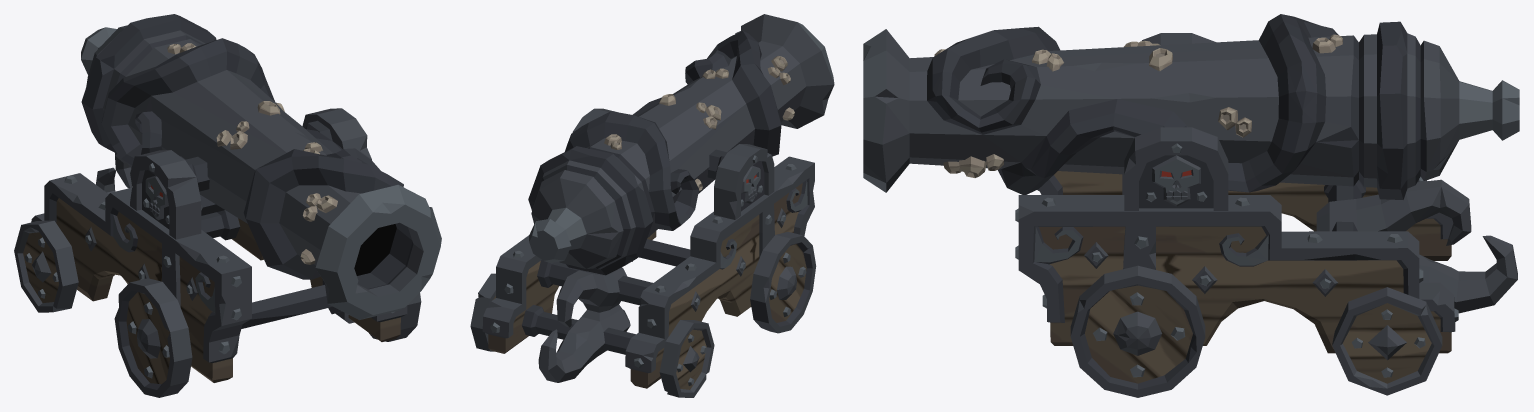
The model's file is SM_Wep_Cannon_03.fbx.
3 renders of one model, left to right at view 1: azimuth 30°, elevation 25°; view 2: azimuth 150°, elevation 25°; view 3: azimuth 270°, elevation 25°, orthographic. The views are drawn at different scales.
Visible parts, largest first — view 1: SM_Wep_Cannon_03_Cannon, SM_Wep_Cannon_03, SM_Wep_Cannon_03_Wheel_FR, SM_Wep_Cannon_03_Wheel_RR, SM_Wep_Cannon_03_Wedge, SM_Wep_Cannon_03_Wheel_FL; view 2: SM_Wep_Cannon_03_Cannon, SM_Wep_Cannon_03, SM_Wep_Cannon_03_Wedge, SM_Wep_Cannon_03_Wheel_FR, SM_Wep_Cannon_03_Wheel_RR, SM_Wep_Cannon_03_Wheel_RL; view 3: SM_Wep_Cannon_03_Cannon, SM_Wep_Cannon_03, SM_Wep_Cannon_03_Wheel_FL, SM_Wep_Cannon_03_Wedge, SM_Wep_Cannon_03_Wheel_RL.
Part boxes in pixels (x1=…): SM_Wep_Cannon_03_Cannon: x1=81, y1=14, x2=441, y2=320; SM_Wep_Cannon_03: x1=31, y1=108, x2=407, y2=382; SM_Wep_Cannon_03_Wheel_FR: x1=114, y1=278, x2=192, y2=397; SM_Wep_Cannon_03_Wheel_RR: x1=14, y1=220, x2=78, y2=312; SM_Wep_Cannon_03_Wedge: x1=96, y1=153, x2=202, y2=210; SM_Wep_Cannon_03_Wheel_FL: x1=369, y1=293, x2=421, y2=341; SM_Wep_Cannon_03_Cannon: x1=528, y1=14, x2=834, y2=275; SM_Wep_Cannon_03: x1=482, y1=108, x2=814, y2=388; SM_Wep_Cannon_03_Wedge: x1=538, y1=267, x2=630, y2=382; SM_Wep_Cannon_03_Wheel_FR: x1=750, y1=232, x2=816, y2=333; SM_Wep_Cannon_03_Wheel_RR: x1=659, y1=319, x2=714, y2=397; SM_Wep_Cannon_03_Wheel_RL: x1=470, y1=273, x2=495, y2=351; SM_Wep_Cannon_03_Cannon: x1=863, y1=14, x2=1519, y2=199; SM_Wep_Cannon_03: x1=1015, y1=33, x2=1458, y2=353; SM_Wep_Cannon_03_Wheel_FL: x1=1070, y1=265, x2=1205, y2=397; SM_Wep_Cannon_03_Wedge: x1=1316, y1=179, x2=1517, y2=313; SM_Wep_Cannon_03_Wheel_RL: x1=1332, y1=287, x2=1442, y2=395.
Bounding box in the file's own units: 141 × 144 × 278.
